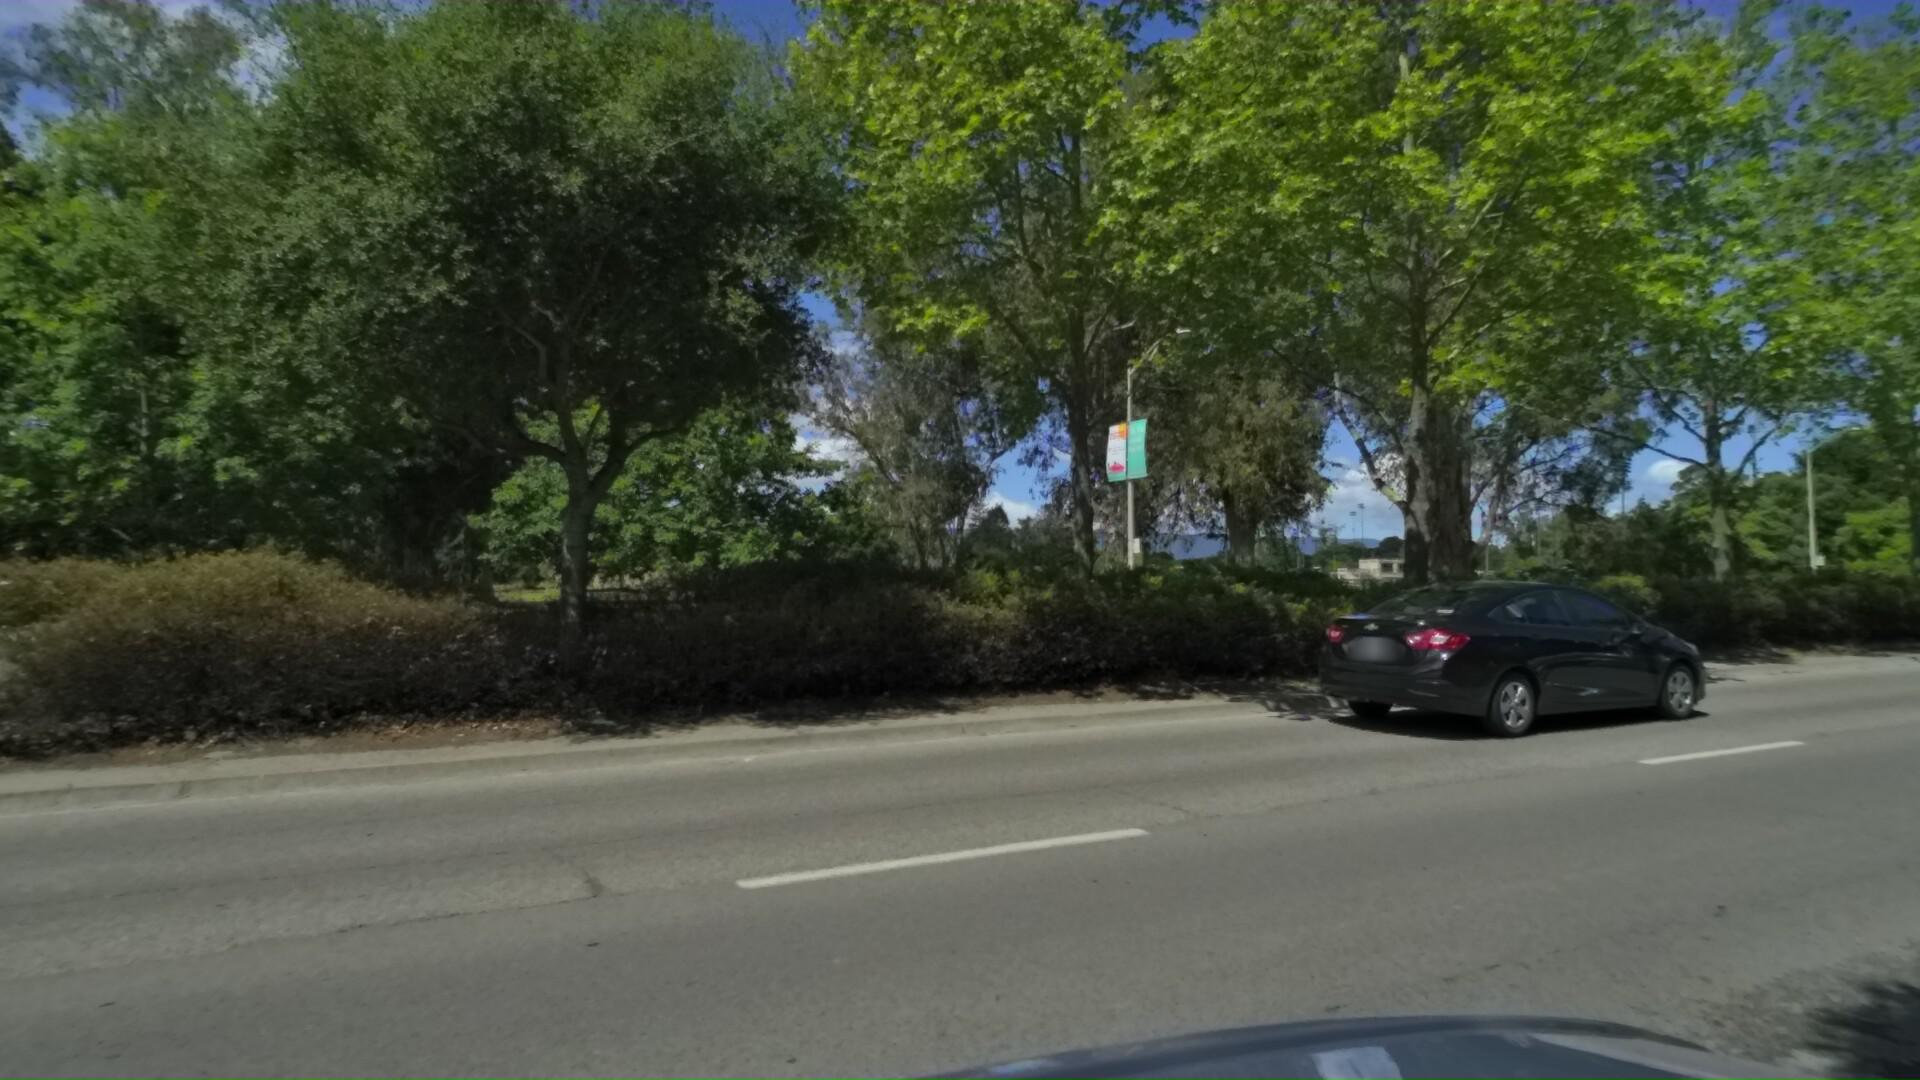car: (1307, 585, 1741, 756)
